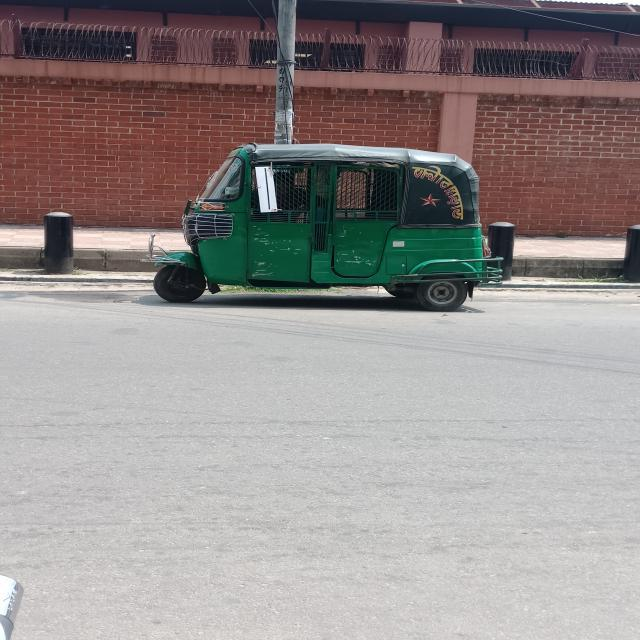CNG: (148, 123, 490, 344)
